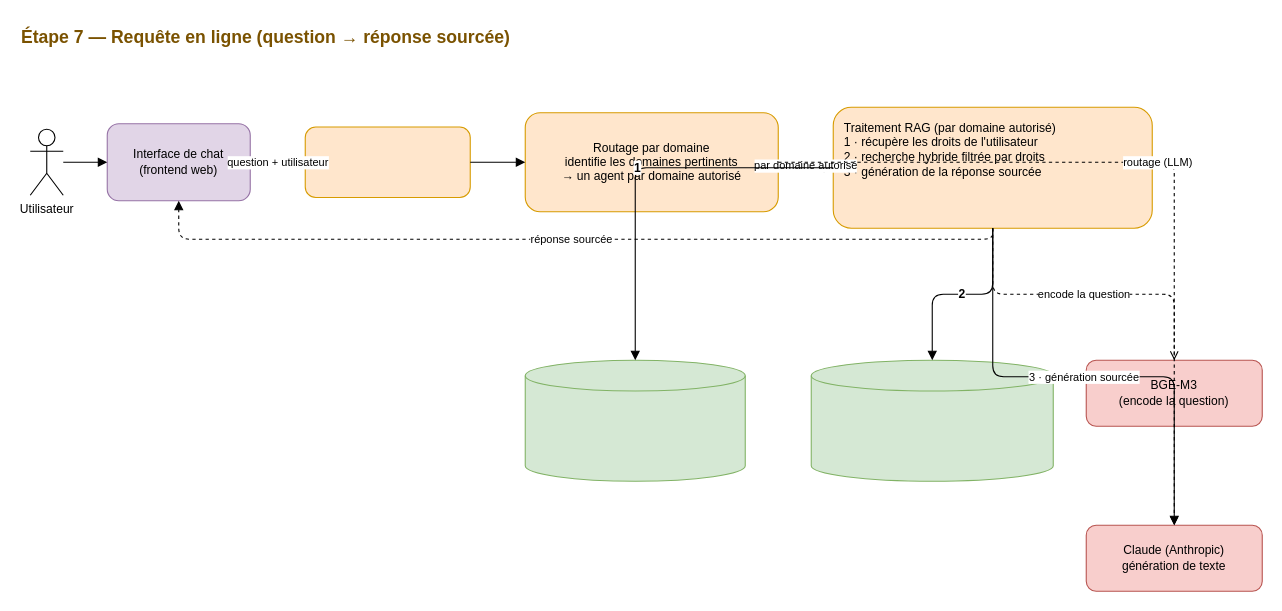
This 1282x611 diagram has some shape labels left out. Here are the shapes that lost their labels. From the top down, the centre of each, then its label:
At pixel 387 161: "API HTTP du chatbot (point d'entrée)".
At pixel 634 420: "PostgreSQL droits d'accès".
At pixel 931 420: "OpenSearch recherche hybride filtrée par droits".
